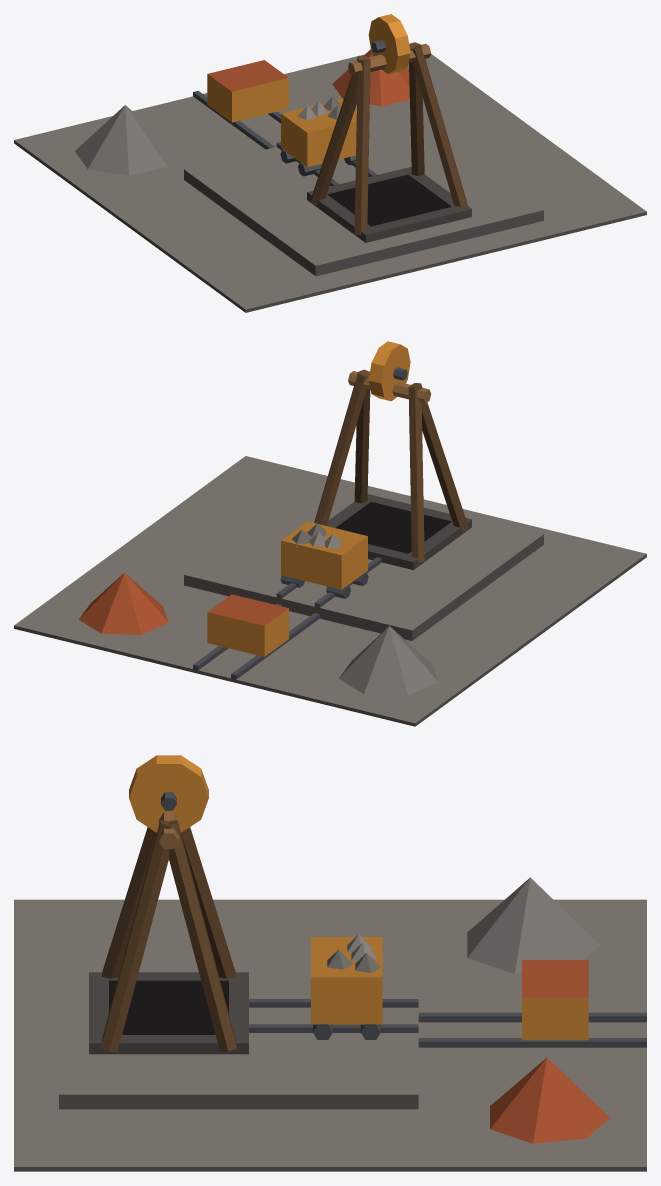
The model's file is mine_1.glb.
3 views of the same model, one above another, from view 1: azimuth 30°, elevation 25°; view 2: azimuth 150°, elevation 25°; view 3: azimuth 270°, elevation 25° (orthographic). The views are drawn at different scales.
Visible parts, largest first — view 1: mine_1; view 2: mine_1; view 3: mine_1.
Part boxes in pixels (x1,y1,x2,y2): mine_1: (14, 14, 646, 312); mine_1: (14, 341, 646, 726); mine_1: (14, 755, 646, 1171).
Bounding box in the file's own units: 3.8 × 1.84 × 3.8.
